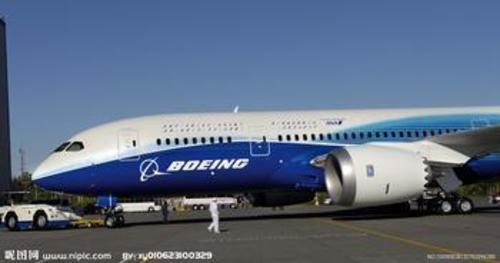airplane: (26, 103, 500, 223)
